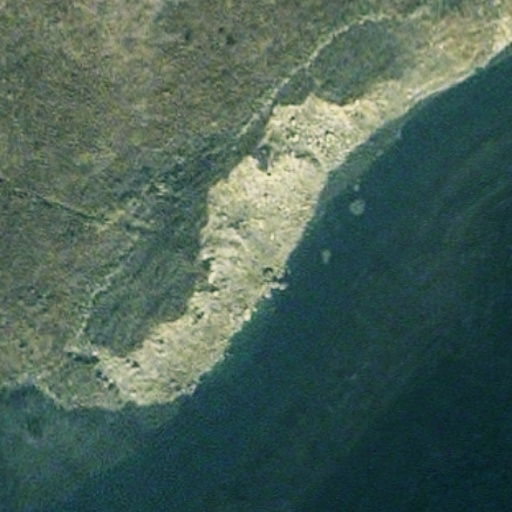landslide: (94, 100, 360, 404)
